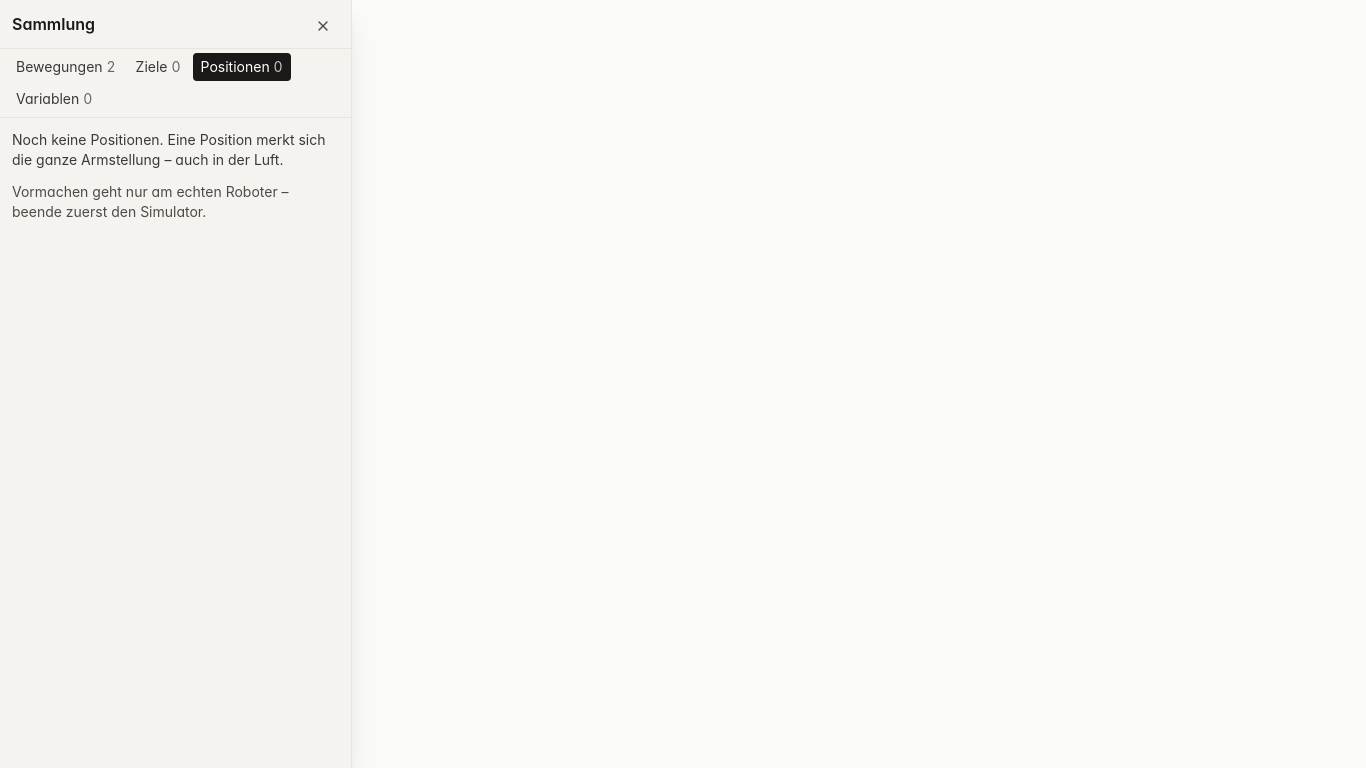
Test: SammlungDrawer: the accordion, empty states, the simulator hint, „In 3D zeigen" (D) › in the simulator a teach tab says why Vormachen is gone, on an empty tab and on a full one
This screenshot has width=1366, height=768.
expect the text "Noch keine Positionen. Eine Position merkt sich die ganze Armstellung – auch in der Luft." is shown: met, box top-left (12, 131), bottom-right (326, 168)
expect the text "Vormachen geht nur am echten Roboter – beende zuerst den Simulator." is shown: met, box top-left (12, 183), bottom-right (289, 220)
Click the tab "Bewegungen 2".
click(66, 67)  # box top-left (8, 53), bottom-right (124, 81)
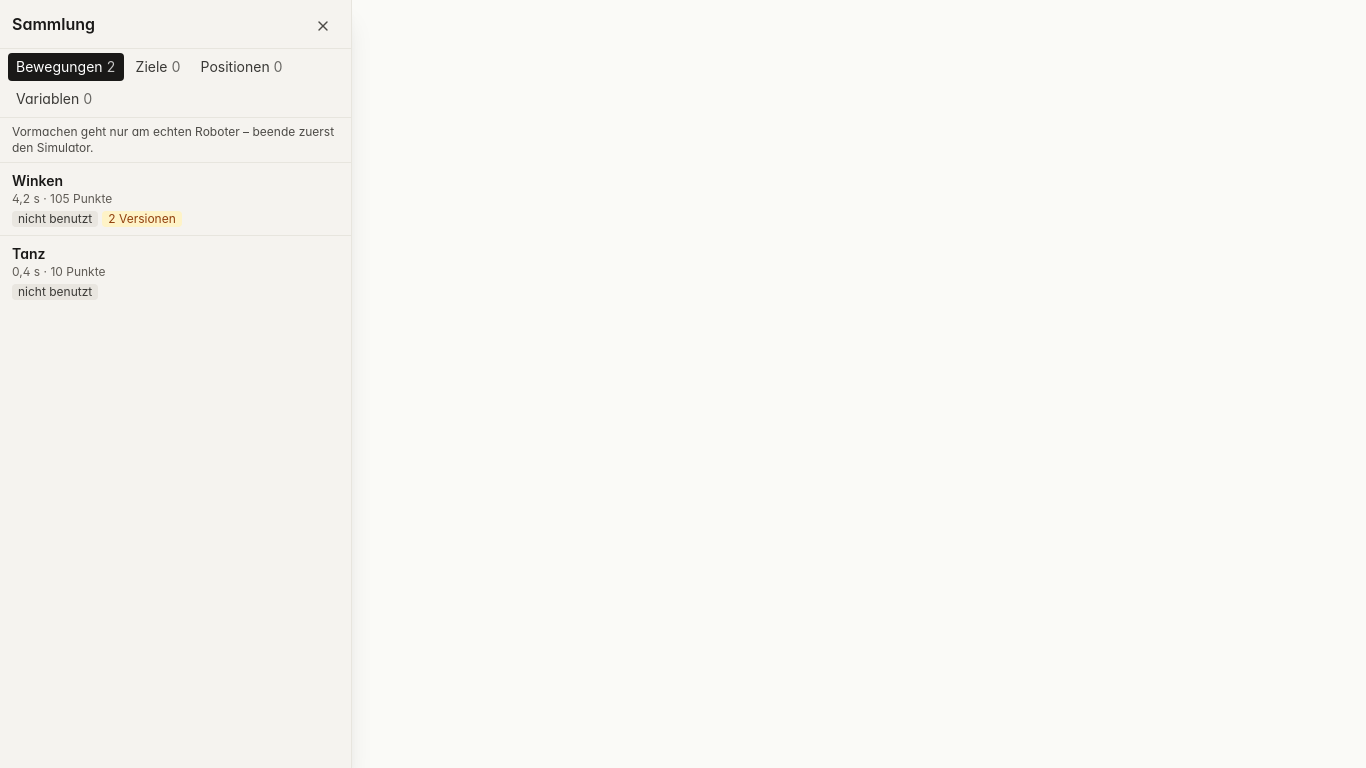
expect the text "Vormachen geht nur am echten Roboter – beende zuerst den Simulator." is shown: met, box top-left (0, 118), bottom-right (351, 163)
Click the tab "Variablen 0".
click(54, 99)  # box top-left (8, 85), bottom-right (100, 113)
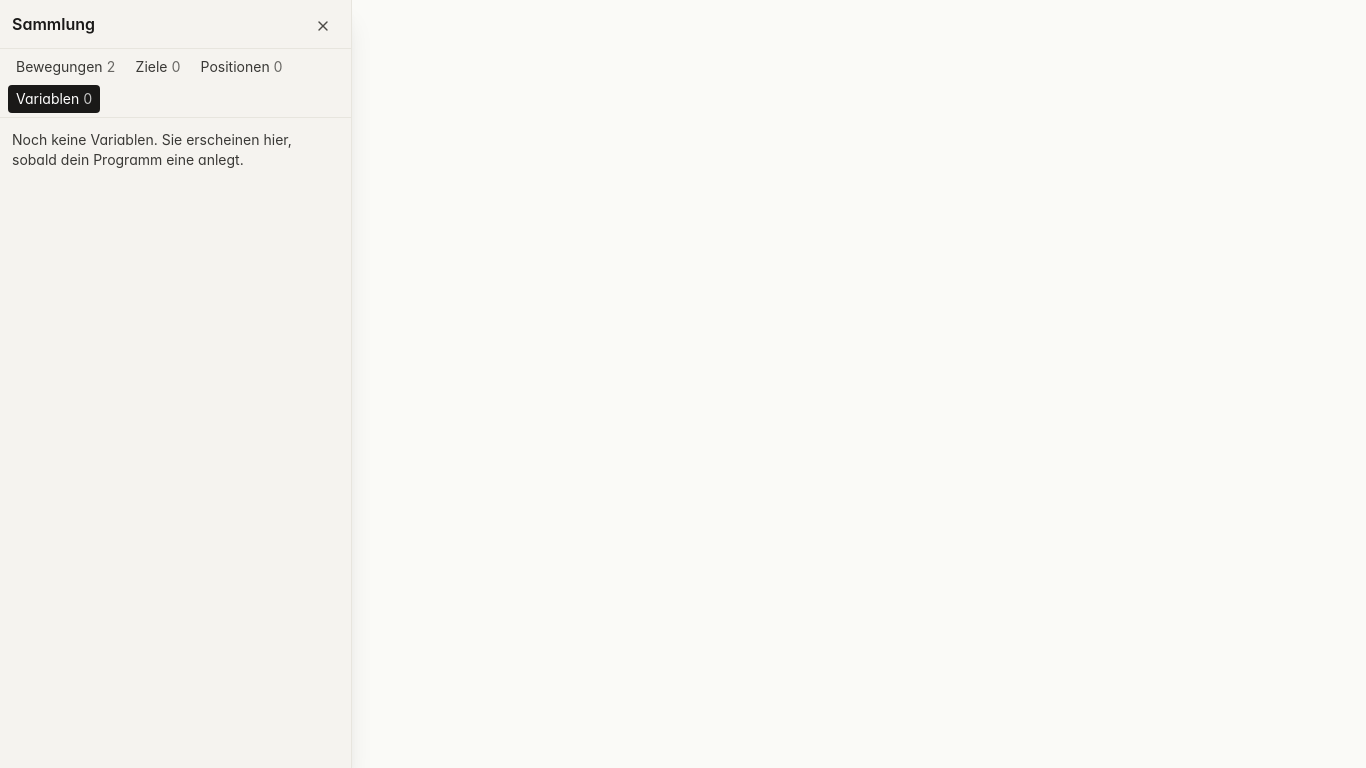
expect the text "Vormachen geht nur am echten Roboter – beende zuerst den Simulator." is gone: met
